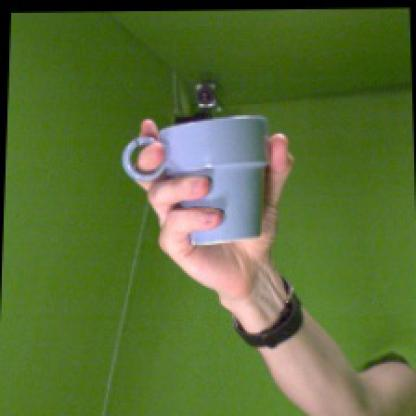Hand: (131, 119, 295, 295)
